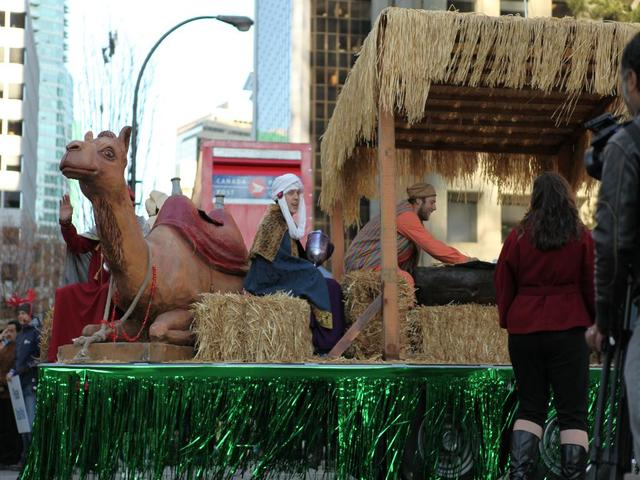camel: (26, 92, 258, 329)
